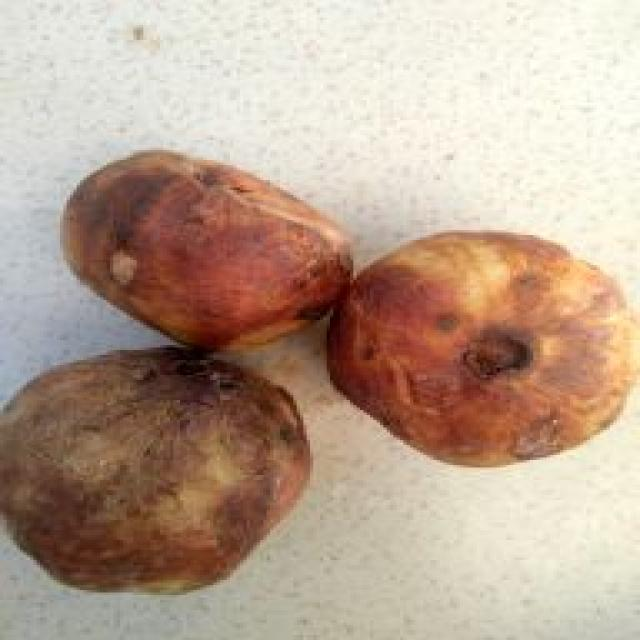Bad_Guava: (2, 348, 310, 592), (328, 231, 637, 466), (65, 152, 352, 349)
